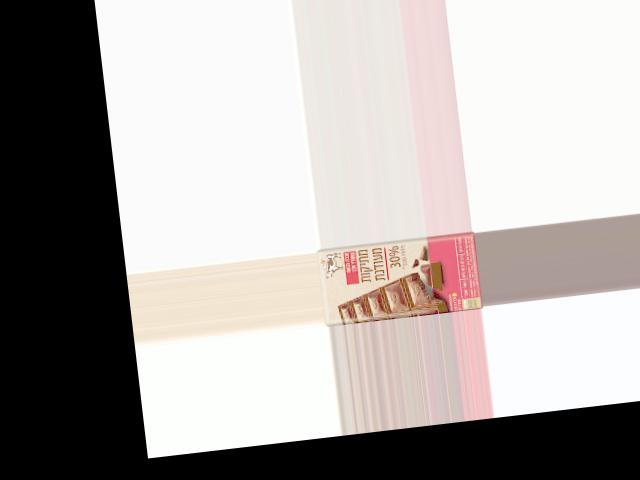chocolate: (316, 230, 482, 326)
